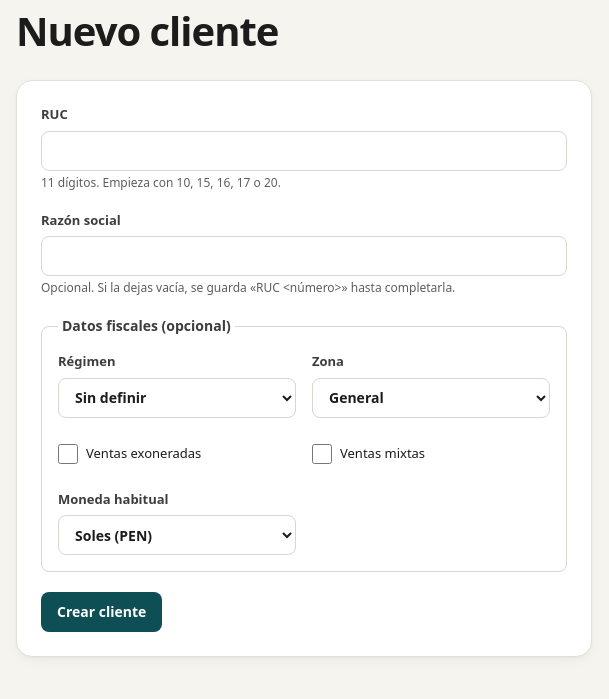
Test: /clientes/nuevo › 409 ruc_duplicado → mensaje propio, sin navegar
Type "20100000009" into the field labelled "RUC" at (304, 150), box left=41, top=130, right=567, bottom=170
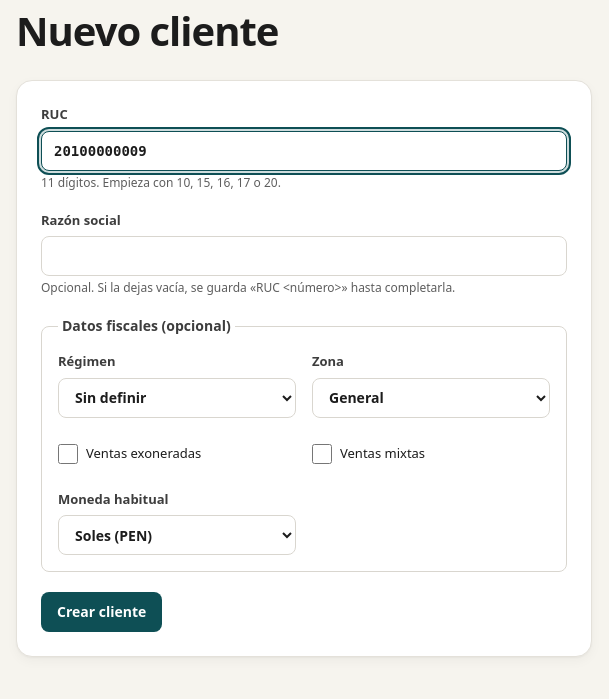
Click the button "Crear cliente" at (102, 612), box left=41, top=592, right=162, bottom=632
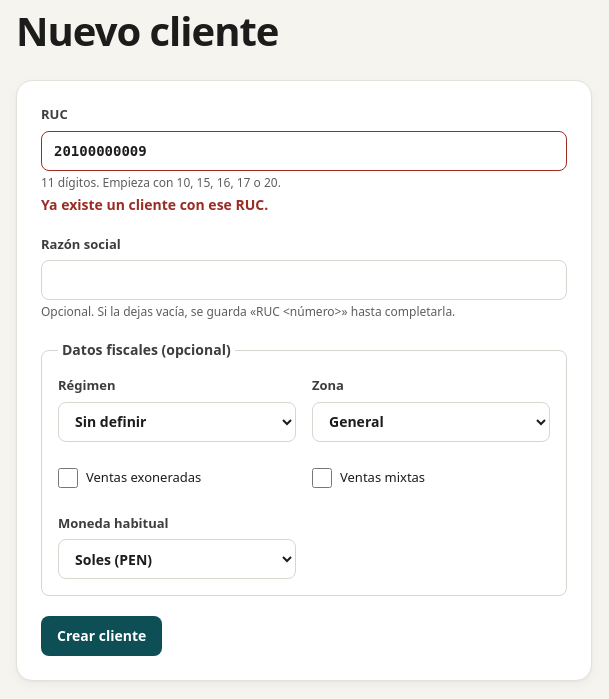
Expected: the text "Ya existe un cliente con ese RUC." is shown, left=41, top=194, right=268, bottom=214
